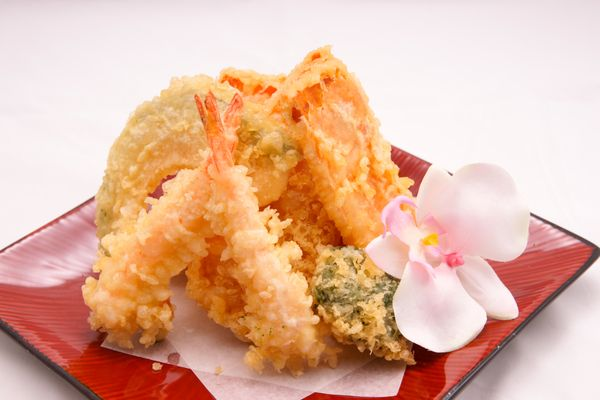sushi: (80, 39, 544, 378)
